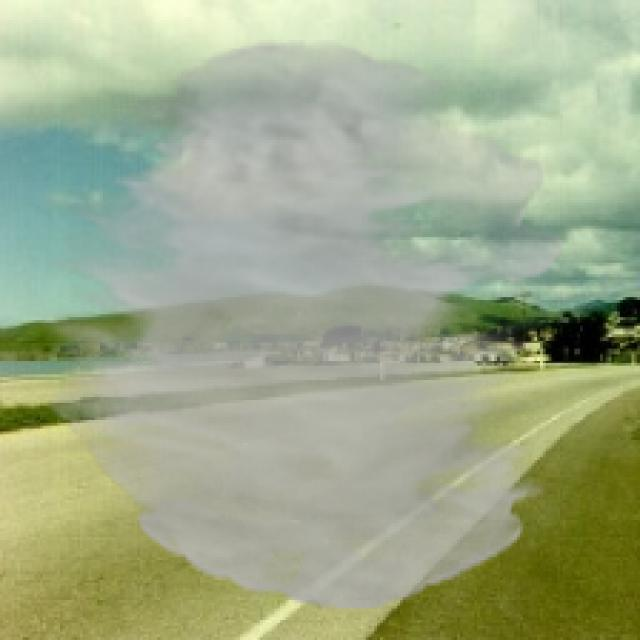smoke: (43, 40, 563, 609)
